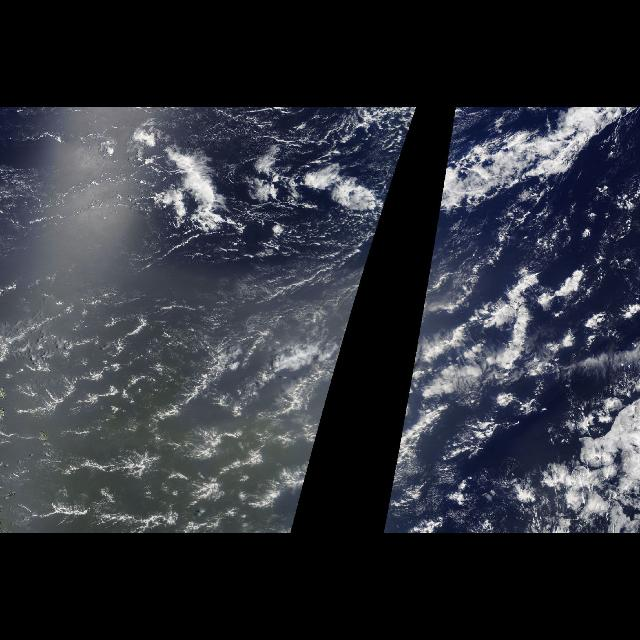Gravel: (10, 266, 368, 532), (382, 266, 640, 532)
